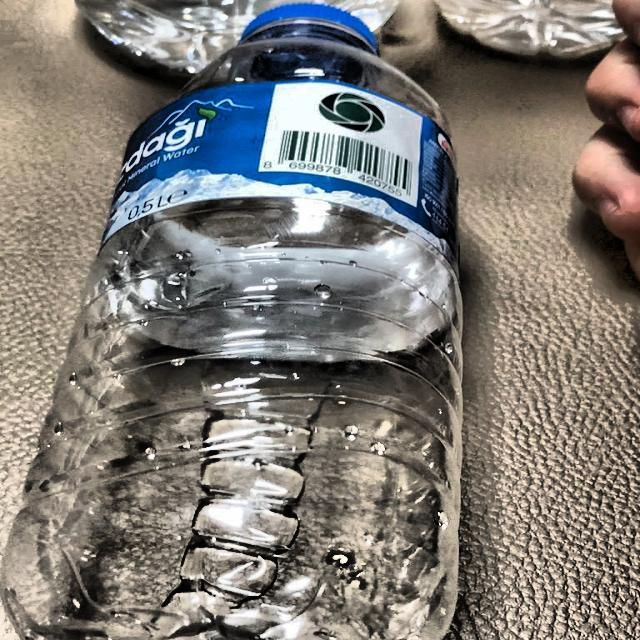plastic: (0, 2, 472, 640)
